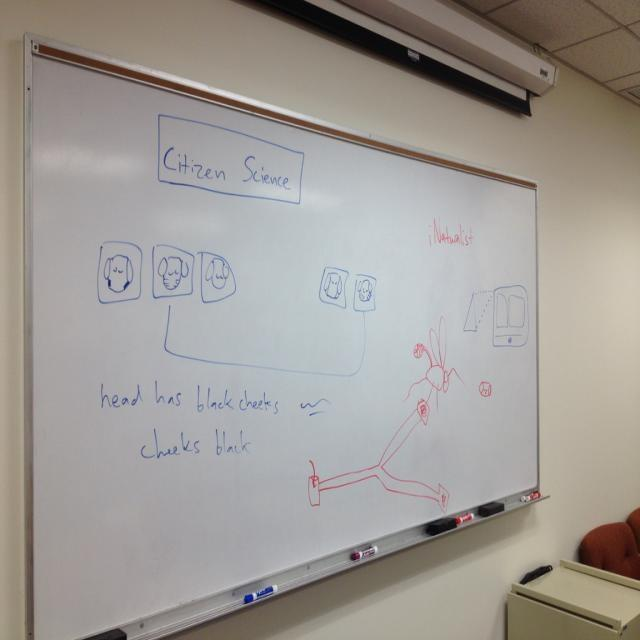Whiteboard: (21, 30, 539, 639)
